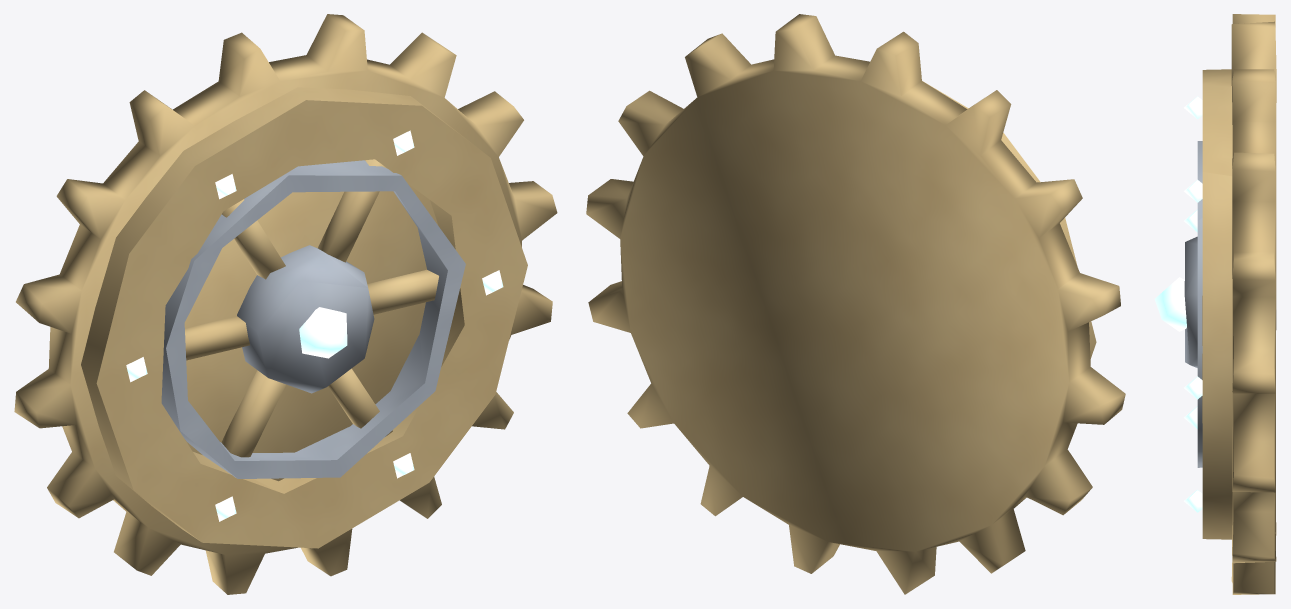
The model's file is gear_clockwork_lod1.gltf.
The picture shows the model from 3 angles, left to right: view 1: azimuth 30°, elevation 25°; view 2: azimuth 150°, elevation 25°; view 3: azimuth 270°, elevation 25°; orthographic projection. The views are drawn at different scales.
Parts seen in each view (by area): view 1: gear_clockwork_LOD1; view 2: gear_clockwork_LOD1; view 3: gear_clockwork_LOD1.
Boxes of the visible parts, bbox=[...] form: gear_clockwork_LOD1: bbox=[14, 14, 557, 594]; gear_clockwork_LOD1: bbox=[586, 14, 1125, 594]; gear_clockwork_LOD1: bbox=[1154, 14, 1276, 594].
Bounding box in the file's own units: 1.18 × 1.18 × 0.2485.
Materials: 1 (1 with a texture image).
